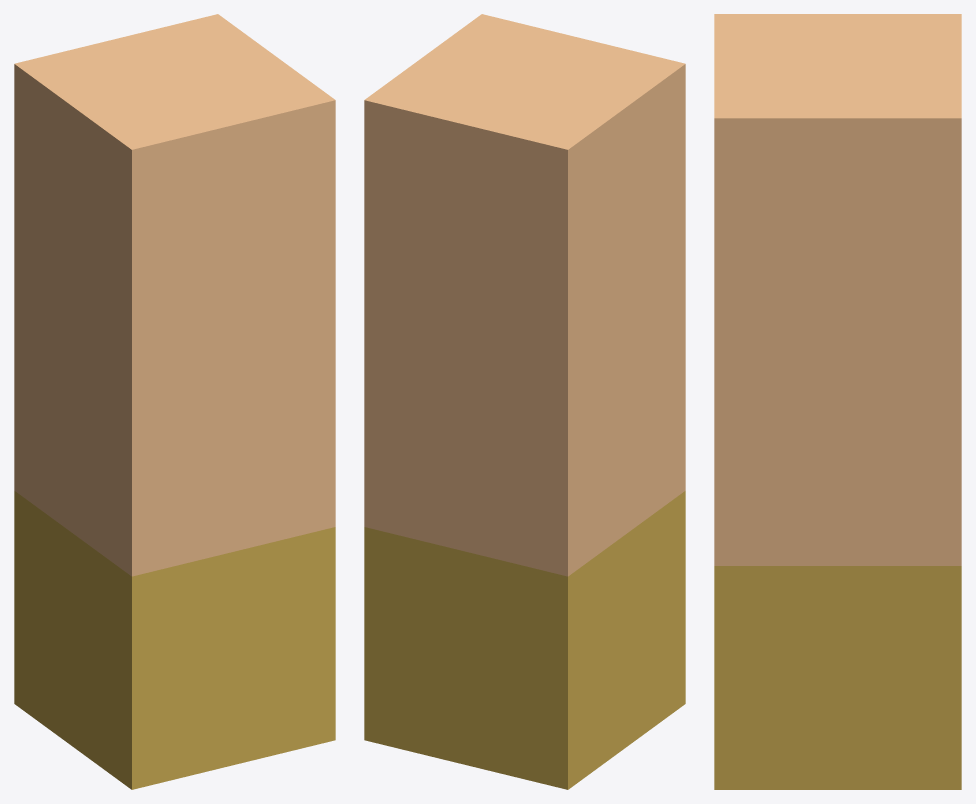
The model's file is Player_Cheetah_RArm.obj.
The picture shows the model from 3 angles, left to right: view 1: azimuth 30°, elevation 25°; view 2: azimuth 150°, elevation 25°; view 3: azimuth 270°, elevation 25°; orthographic projection. The views are drawn at different scales.
Size of the model in its own units: 0.1 by 0.3 by 0.1.
1 material, 1 textured.
